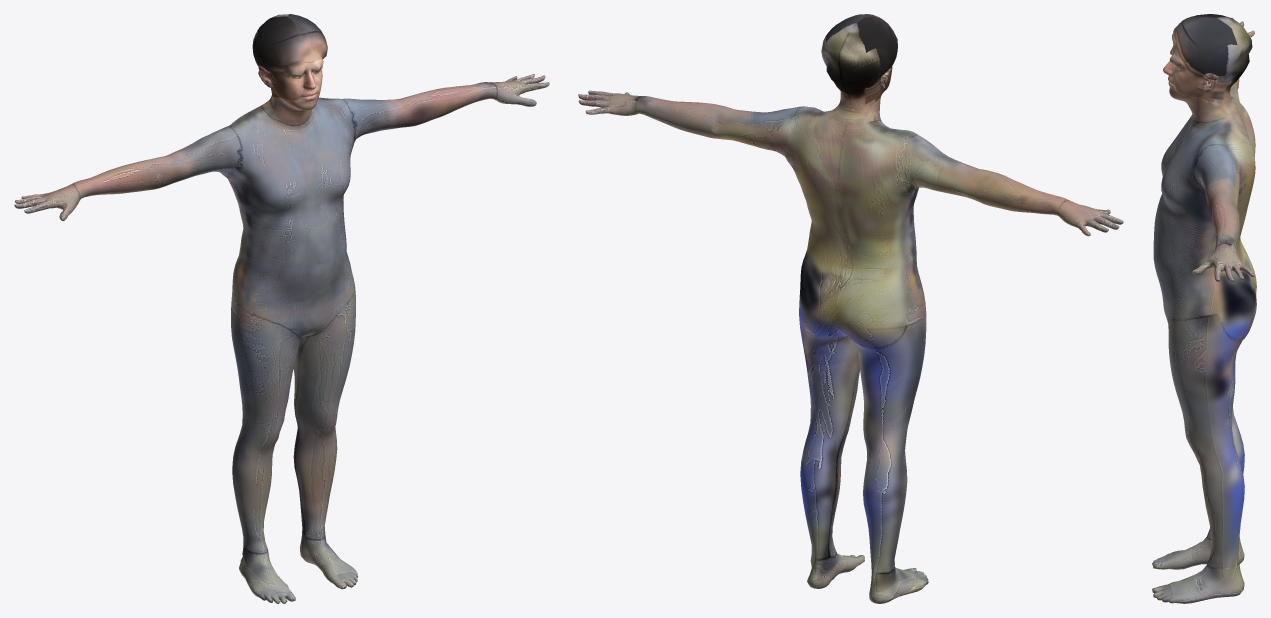
The model's file is me_char_static.glb.
The picture shows the model from 3 angles, left to right: view 1: azimuth 30°, elevation 25°; view 2: azimuth 150°, elevation 25°; view 3: azimuth 270°, elevation 25°; orthographic projection.
Size of the model in its own units: 1.74 by 1.75 by 0.2945.
Materials: 1 (1 with a texture image).
